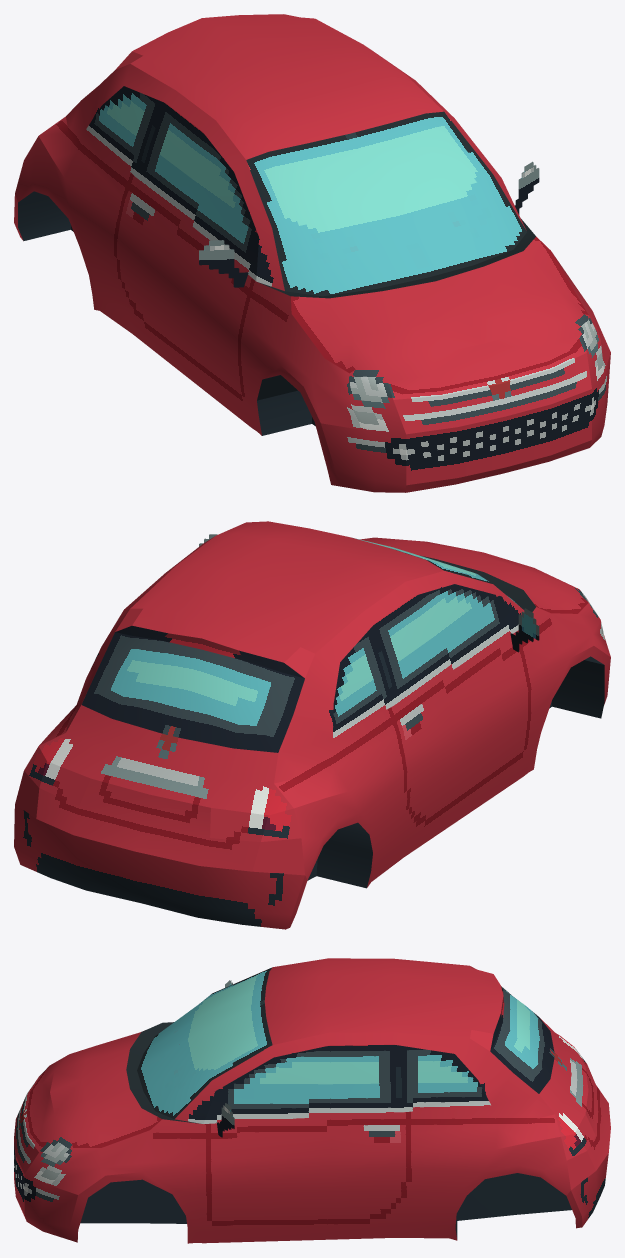
The model's file is Fiat500.glb.
3 renders of one model, top to bottom at view 1: azimuth 30°, elevation 25°; view 2: azimuth 150°, elevation 25°; view 3: azimuth 270°, elevation 25°, orthographic. The views are drawn at different scales.
Parts seen in each view (by area): view 1: BodyFiat500; view 2: BodyFiat500; view 3: BodyFiat500.
Part boxes in pixels (x1,y1,x2,y2): BodyFiat500: (14, 14, 610, 492); BodyFiat500: (14, 521, 610, 929); BodyFiat500: (14, 958, 610, 1243).
Bounding box in the file's own units: 1.86 × 1.3 × 3.51.
Materials: 1 (1 with a texture image).
